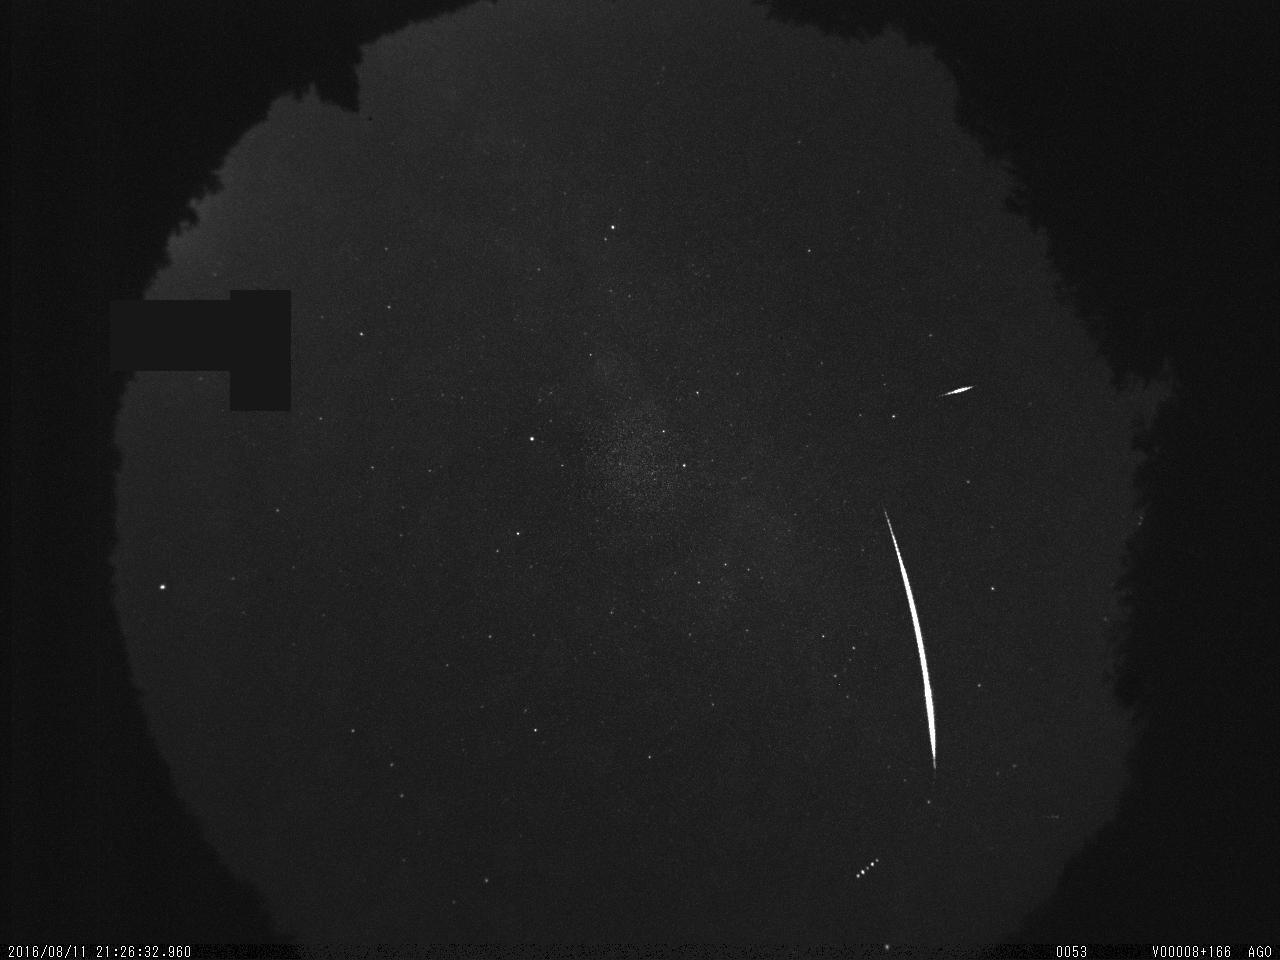meteor: (878, 500, 956, 785), (933, 378, 987, 408)
satelite: (849, 851, 886, 886)
